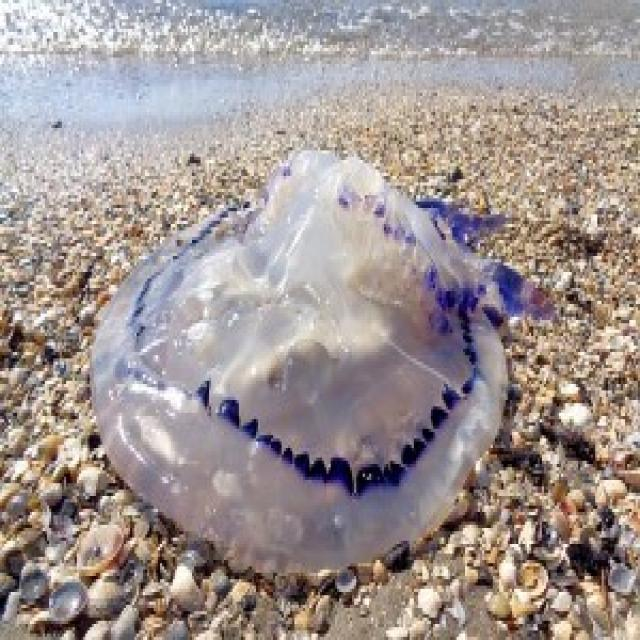Jellyfish: (86, 135, 547, 568)
